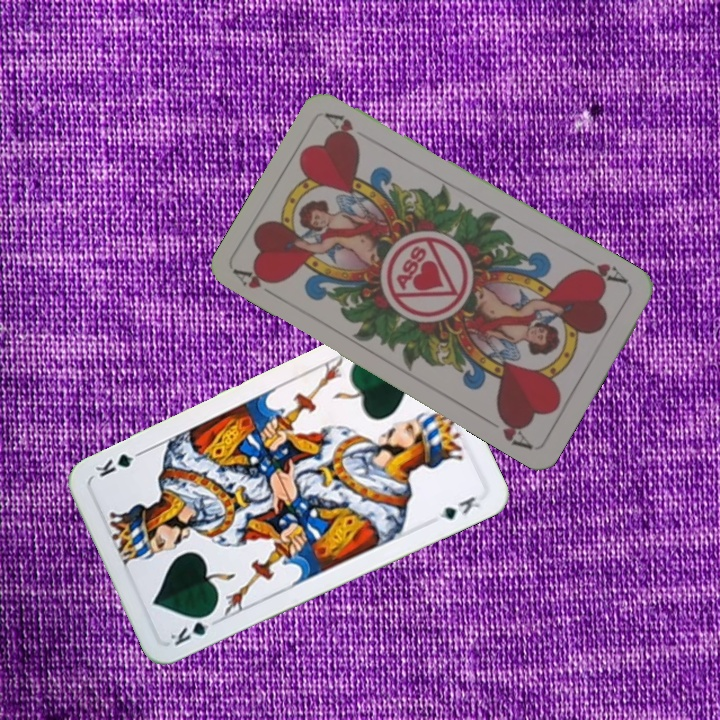GK: (166, 608, 218, 649)
HA: (231, 263, 285, 303), (574, 252, 631, 287)
